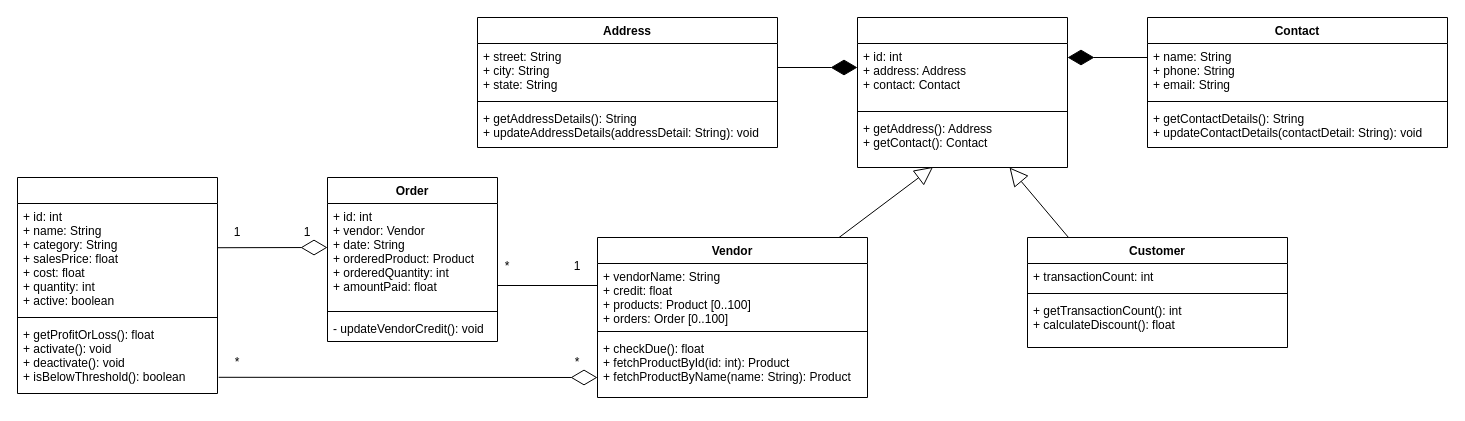
Image size: 1465x421. Some labels were removed from this diagram. Here are the shapes that lost their labels. From the top down, the box of each, then its label:
(856, 16, 1068, 168): BusinessPartner
(16, 176, 218, 394): Product
